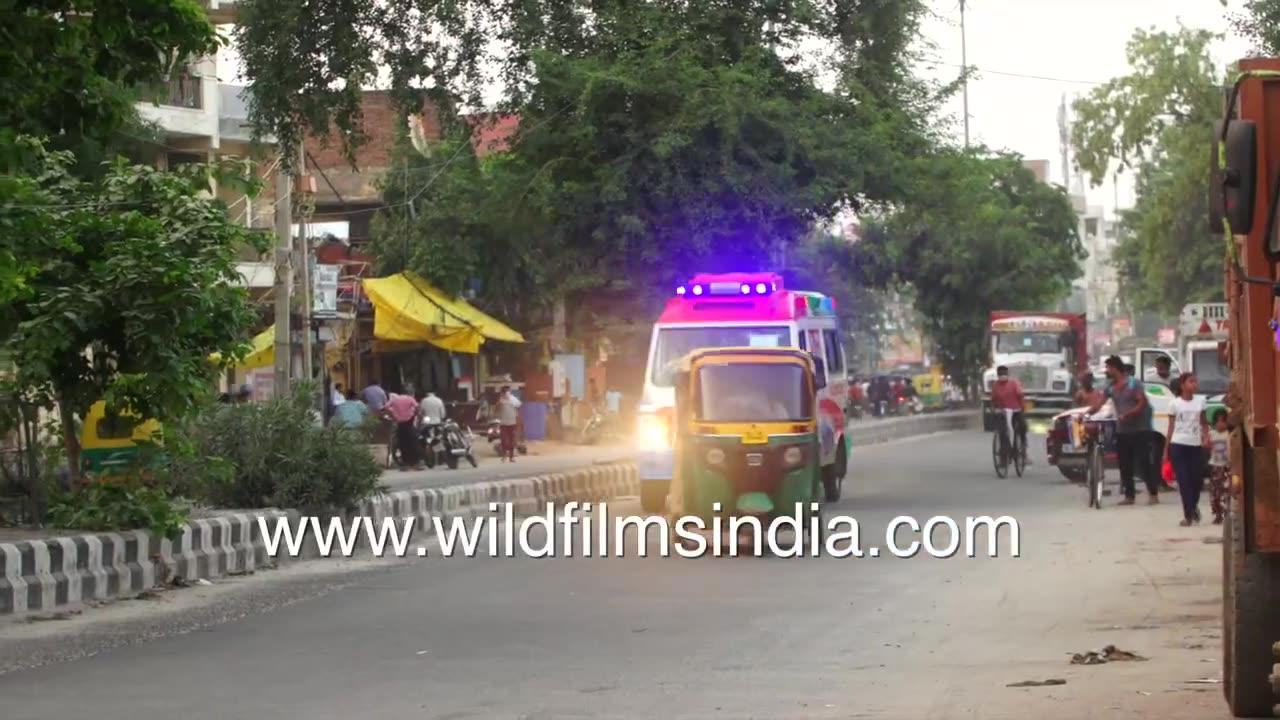AMBULANCE: (635, 273, 851, 511)
